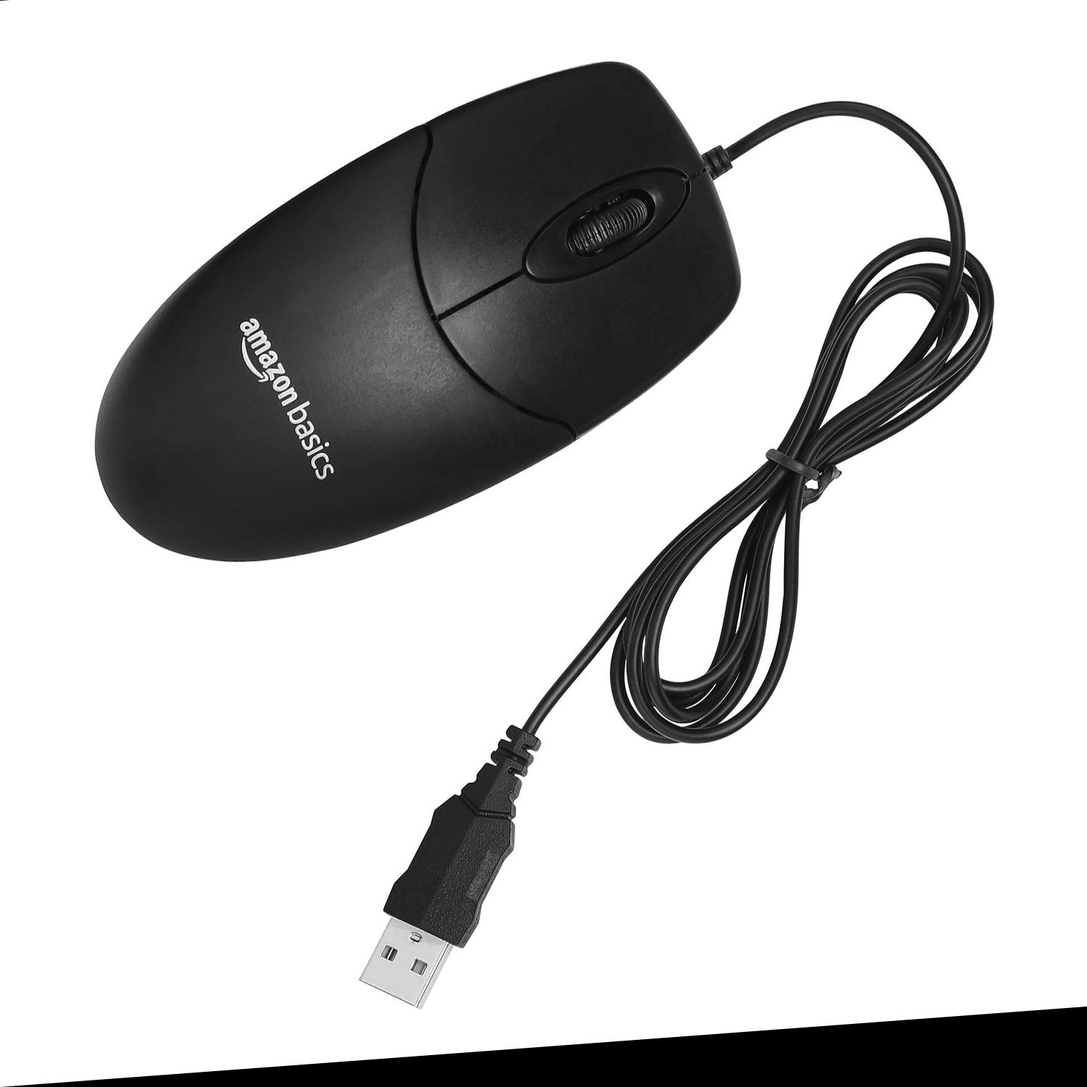mouse: (83, 0, 756, 664)
